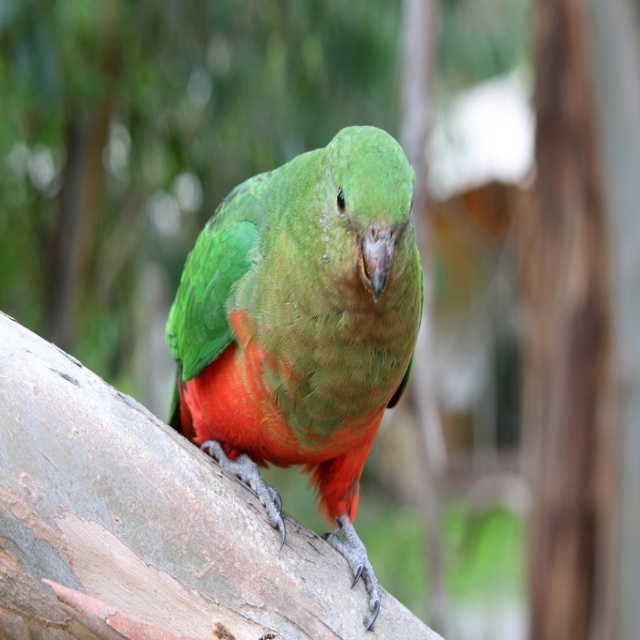Parrot: (165, 126, 424, 632)
